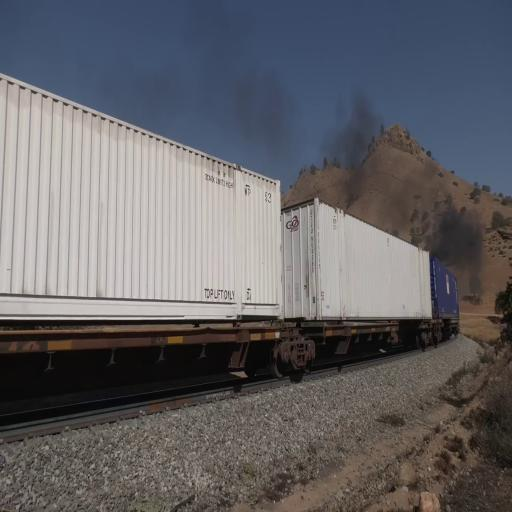smoke: (435, 200, 473, 264)
